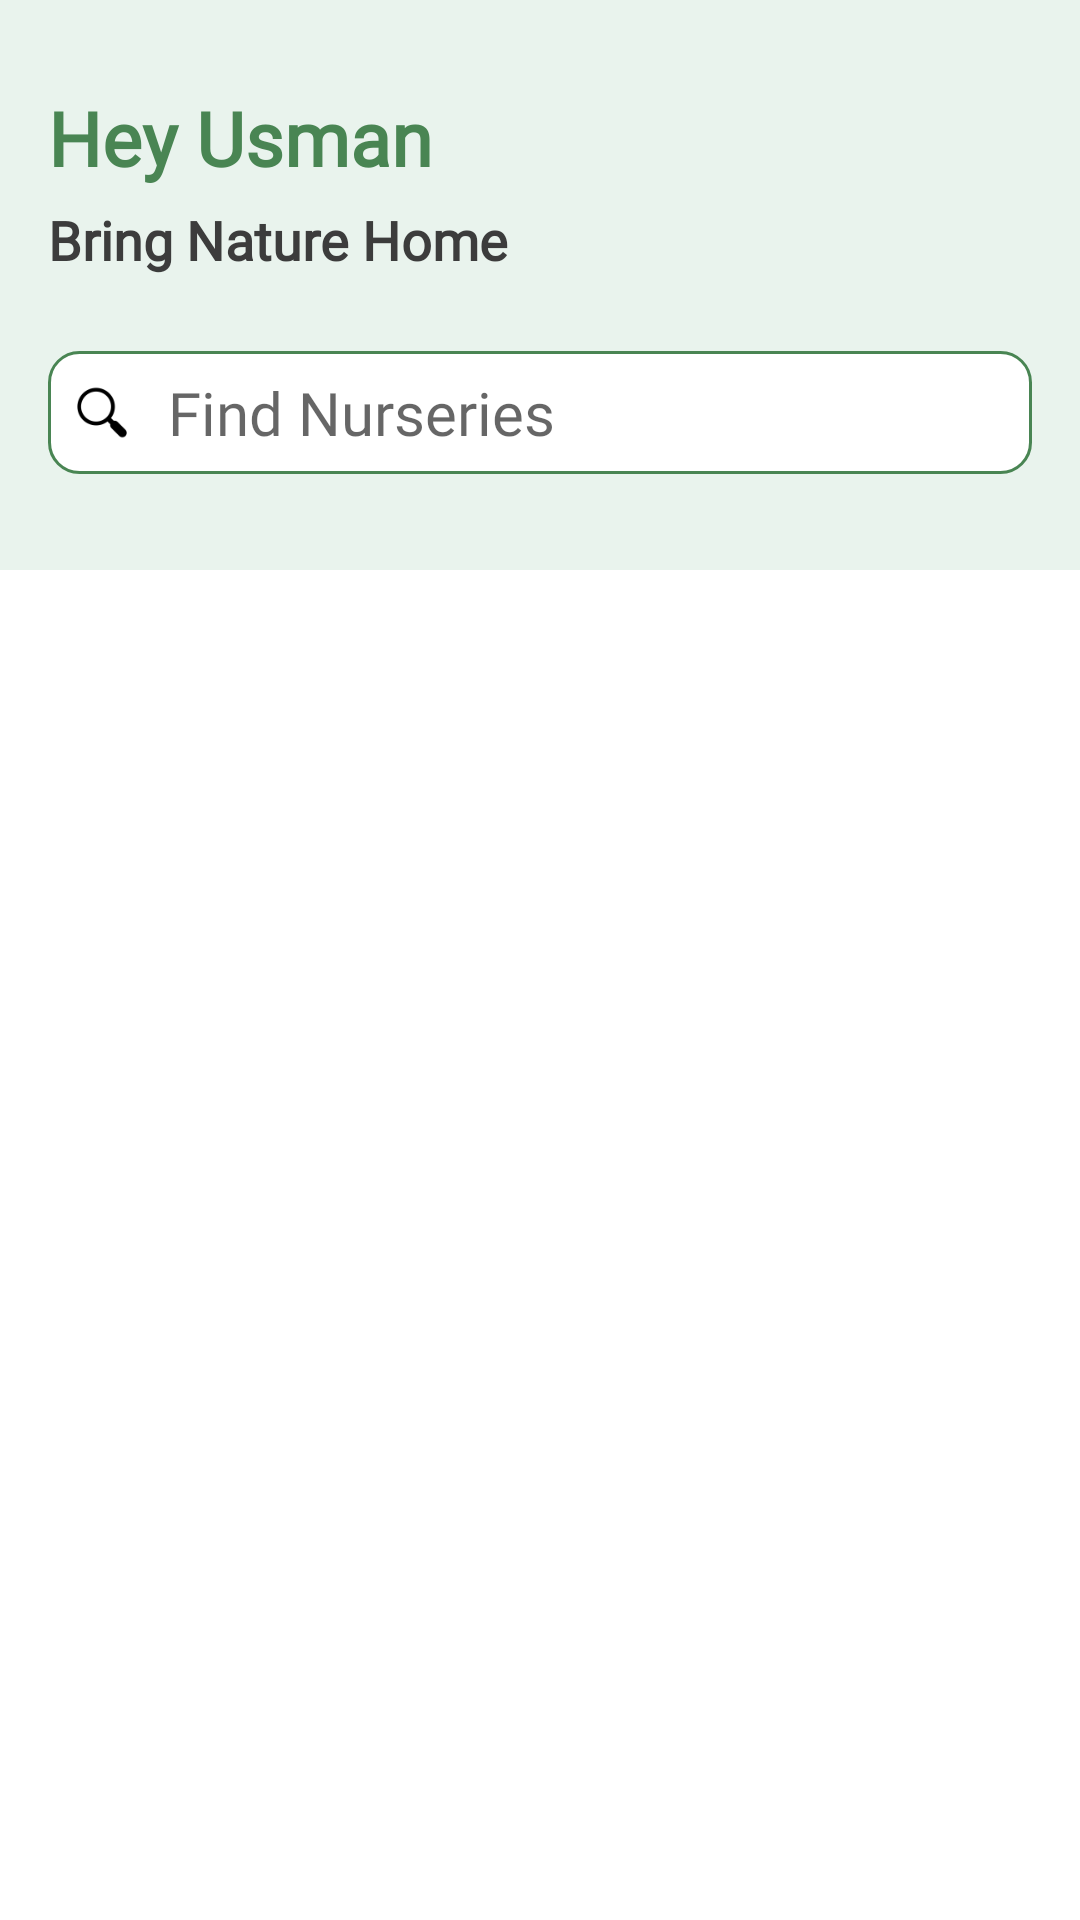

Icon click points for this 1080px×1920px phone screenshot, format point (x, y):
search: point (102, 412)
